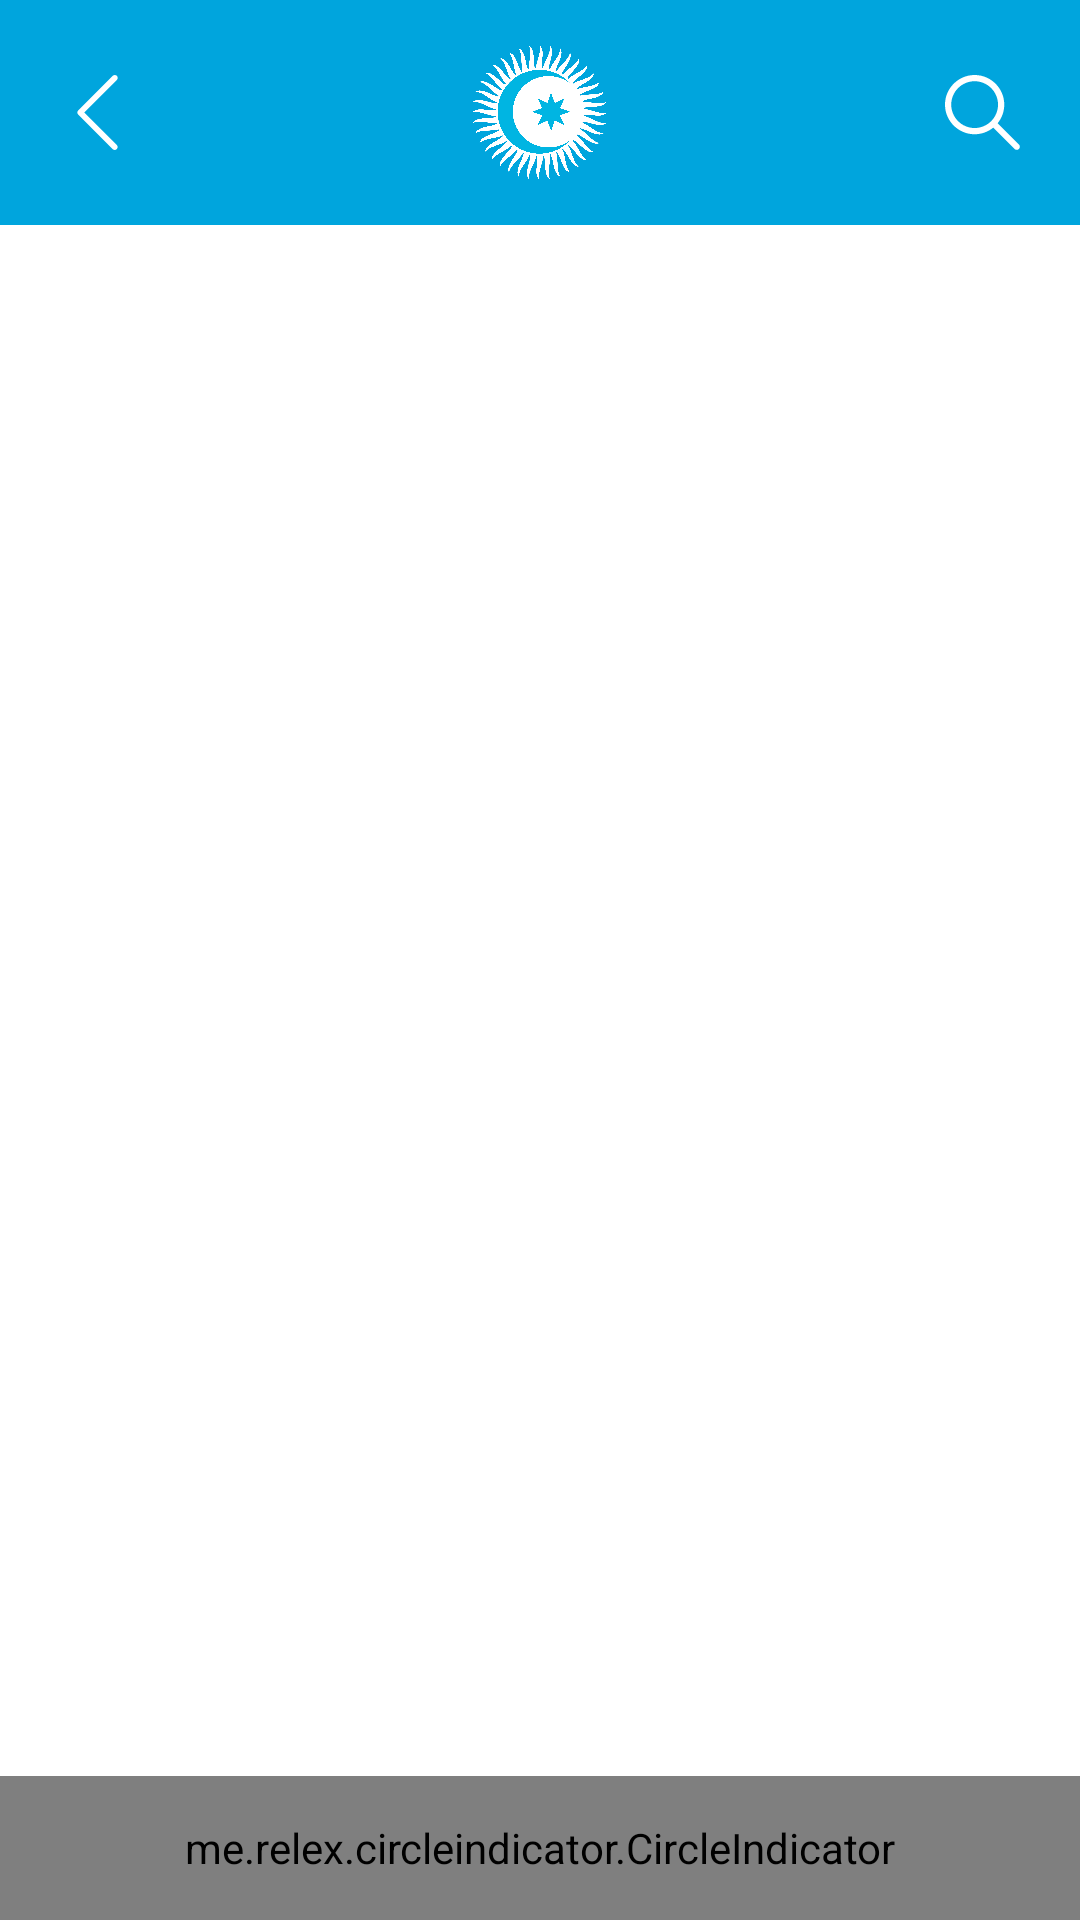

Icon click points for this 1080w x 1920h phone screenshot, format (x=x, y=y):
back: (x=97, y=112)
search: (x=982, y=112)
